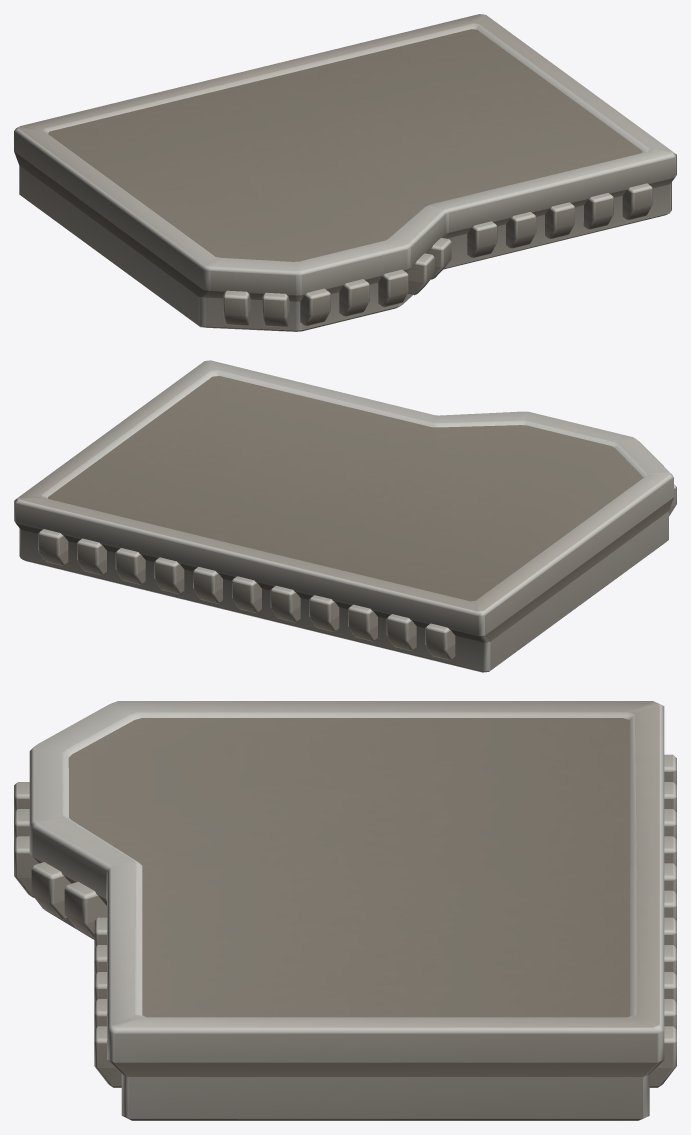
Rendered from appartment_type2_roof_type2_flat.fbx.
The picture shows the model from 3 angles, top to bottom: view 1: azimuth 30°, elevation 25°; view 2: azimuth 150°, elevation 25°; view 3: azimuth 270°, elevation 25°; orthographic projection. The views are drawn at different scales.
Parts seen in each view (by area): view 1: appartment_type2_roof_type2_flat; view 2: appartment_type2_roof_type2_flat; view 3: appartment_type2_roof_type2_flat.
Part boxes in pixels (x1,y1,x2,y2): appartment_type2_roof_type2_flat: [14, 14, 676, 331]; appartment_type2_roof_type2_flat: [14, 360, 676, 672]; appartment_type2_roof_type2_flat: [14, 701, 676, 1120].
Bounding box in the file's own units: 1217 × 160 × 1032.
